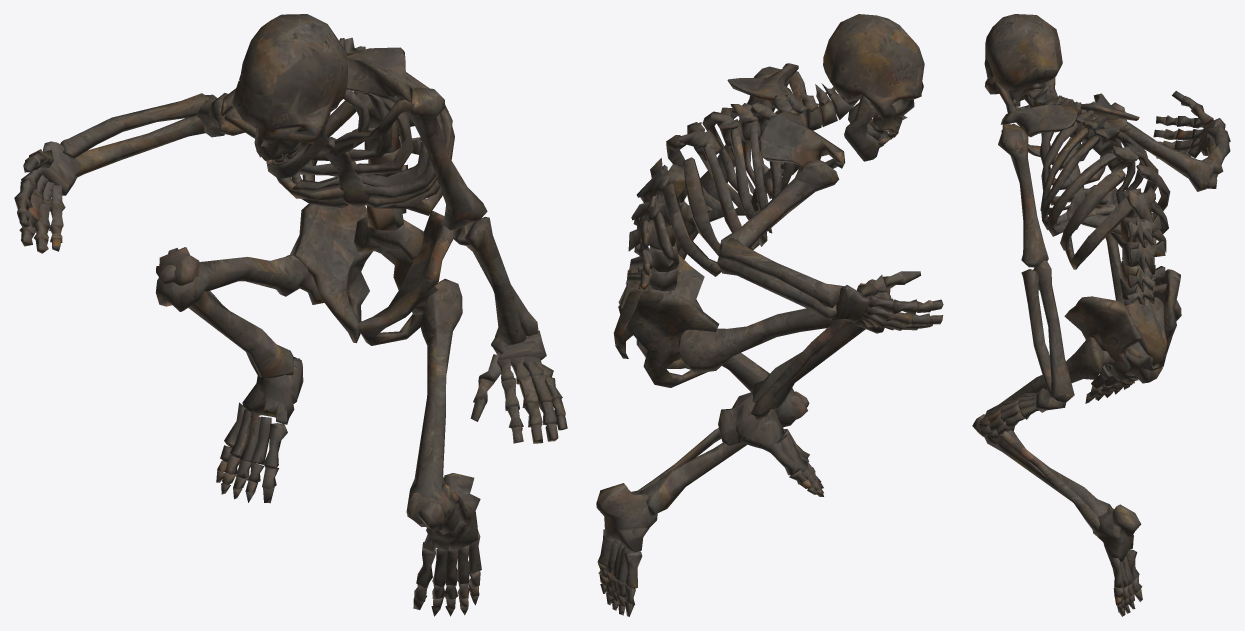
3 renders of one model, left to right at view 1: azimuth 30°, elevation 25°; view 2: azimuth 150°, elevation 25°; view 3: azimuth 270°, elevation 25°, orthographic. The views are drawn at different scales.
Parts seen in each view (by area): view 1: SM_DR_Gateway_Skeleton_Corner_01_LOD0; view 2: SM_DR_Gateway_Skeleton_Corner_01_LOD0; view 3: SM_DR_Gateway_Skeleton_Corner_01_LOD0.
Boxes of the visible parts, x1=… form: SM_DR_Gateway_Skeleton_Corner_01_LOD0: x1=14, y1=14, x2=567, y2=616; SM_DR_Gateway_Skeleton_Corner_01_LOD0: x1=596, y1=14, x2=943, y2=616; SM_DR_Gateway_Skeleton_Corner_01_LOD0: x1=972, y1=14, x2=1230, y2=616.
Bounding box in the file's own units: 1.83 × 2.74 × 1.25.
1 material, 1 textured.
